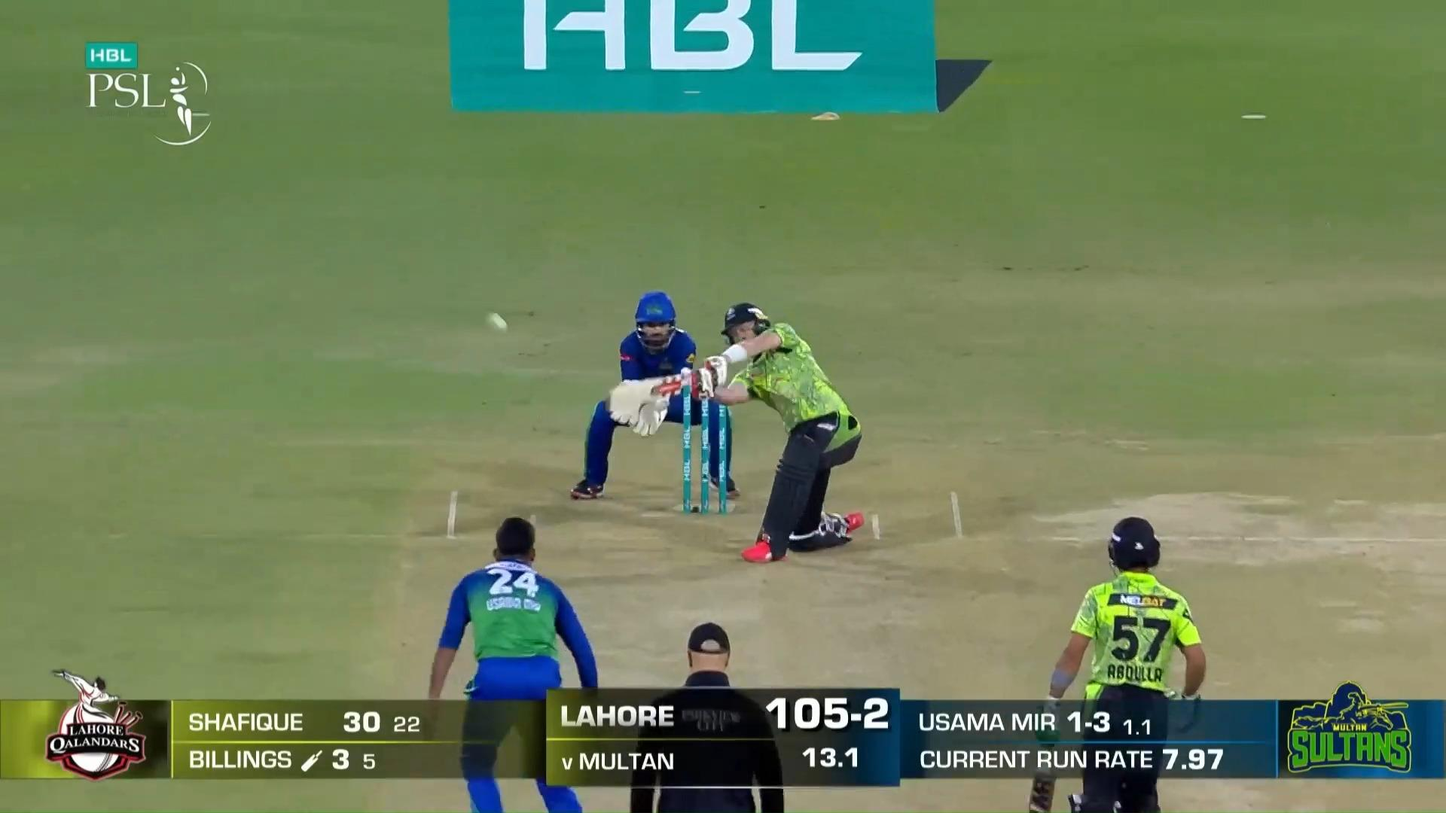batsman: (651, 302, 863, 562)
